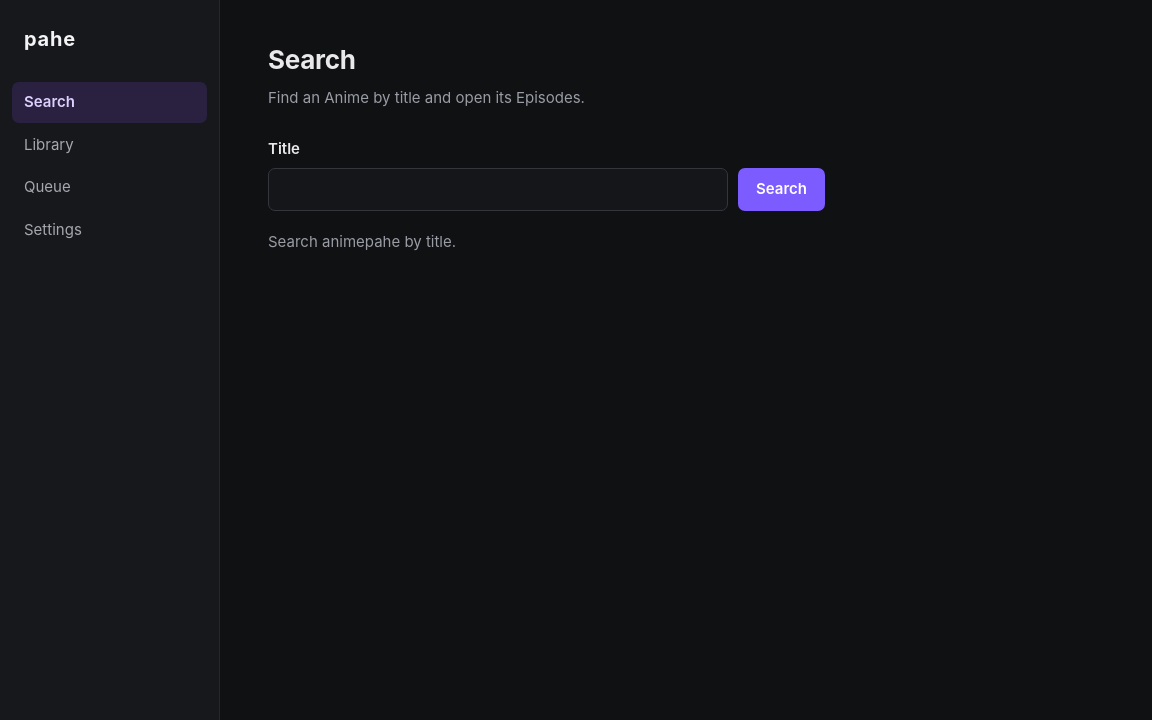
app shell › switches to the library view
The width and height of the screenshot is (1152, 720).
Click the button "Library" at (110, 145), box [12,124,207,165]
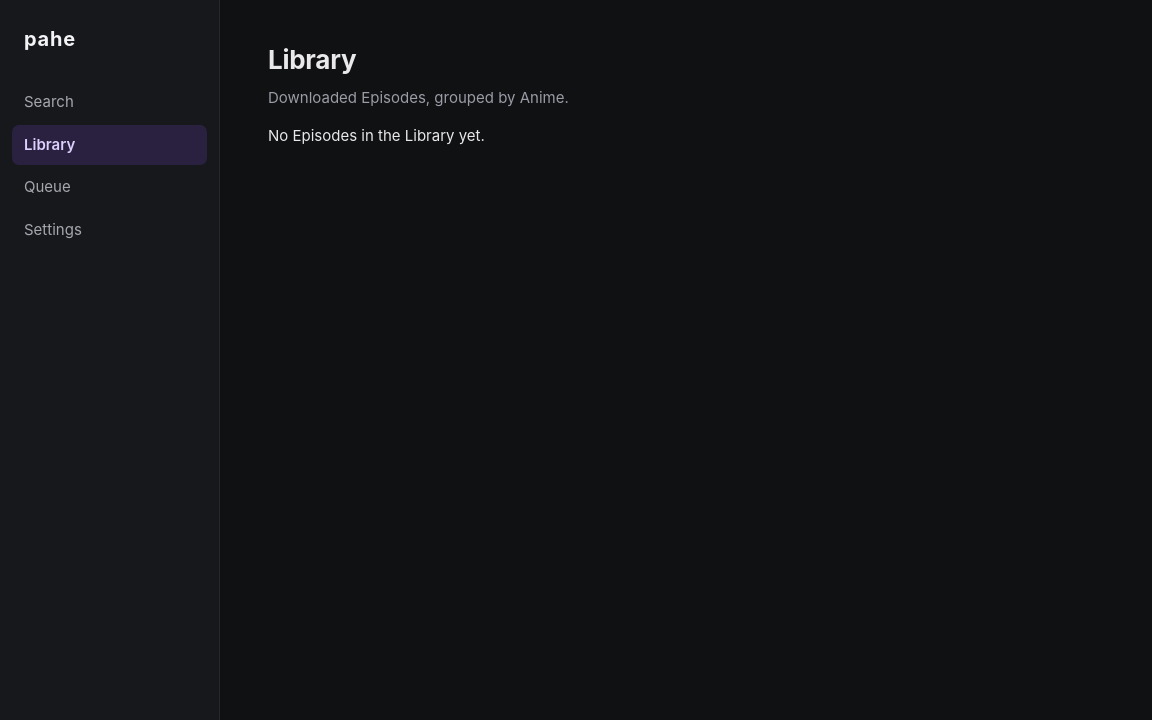
Expected: the heading "Library" is shown, [268,44,356,75]
Expected: the text "No Episodes in the Library yet." is shown, [268,126,485,144]
